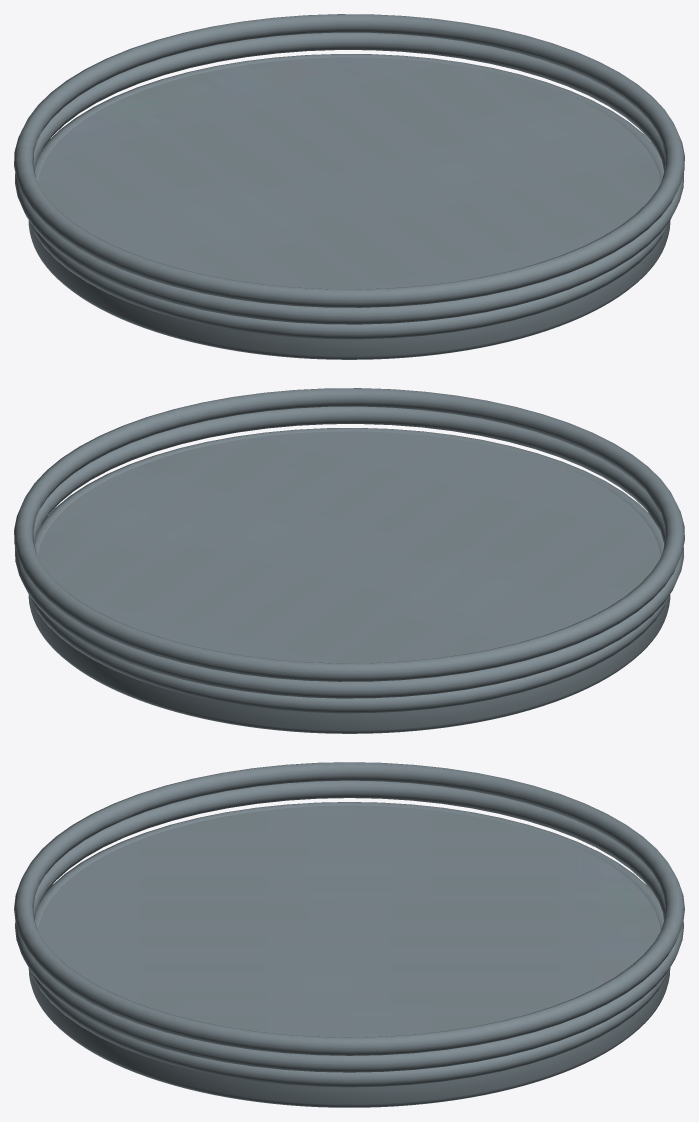
The model's file is tray.glb.
3 views of the same model, one above another, from view 1: azimuth 30°, elevation 25°; view 2: azimuth 150°, elevation 25°; view 3: azimuth 270°, elevation 25° (orthographic).
Visible parts, largest first — view 1: tray; view 2: tray; view 3: tray.
Boxes of the visible parts, <box> form: tray: <box>14,14,684,359</box>; tray: <box>14,388,684,733</box>; tray: <box>14,762,684,1107</box>.
Size of the model in its own units: 0.82 by 0.1 by 0.82.
1 material, 1 textured.
